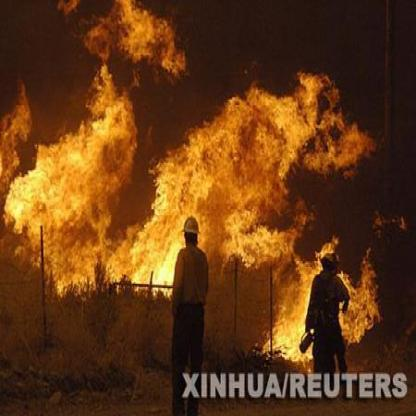fire: (3, 2, 378, 366)
